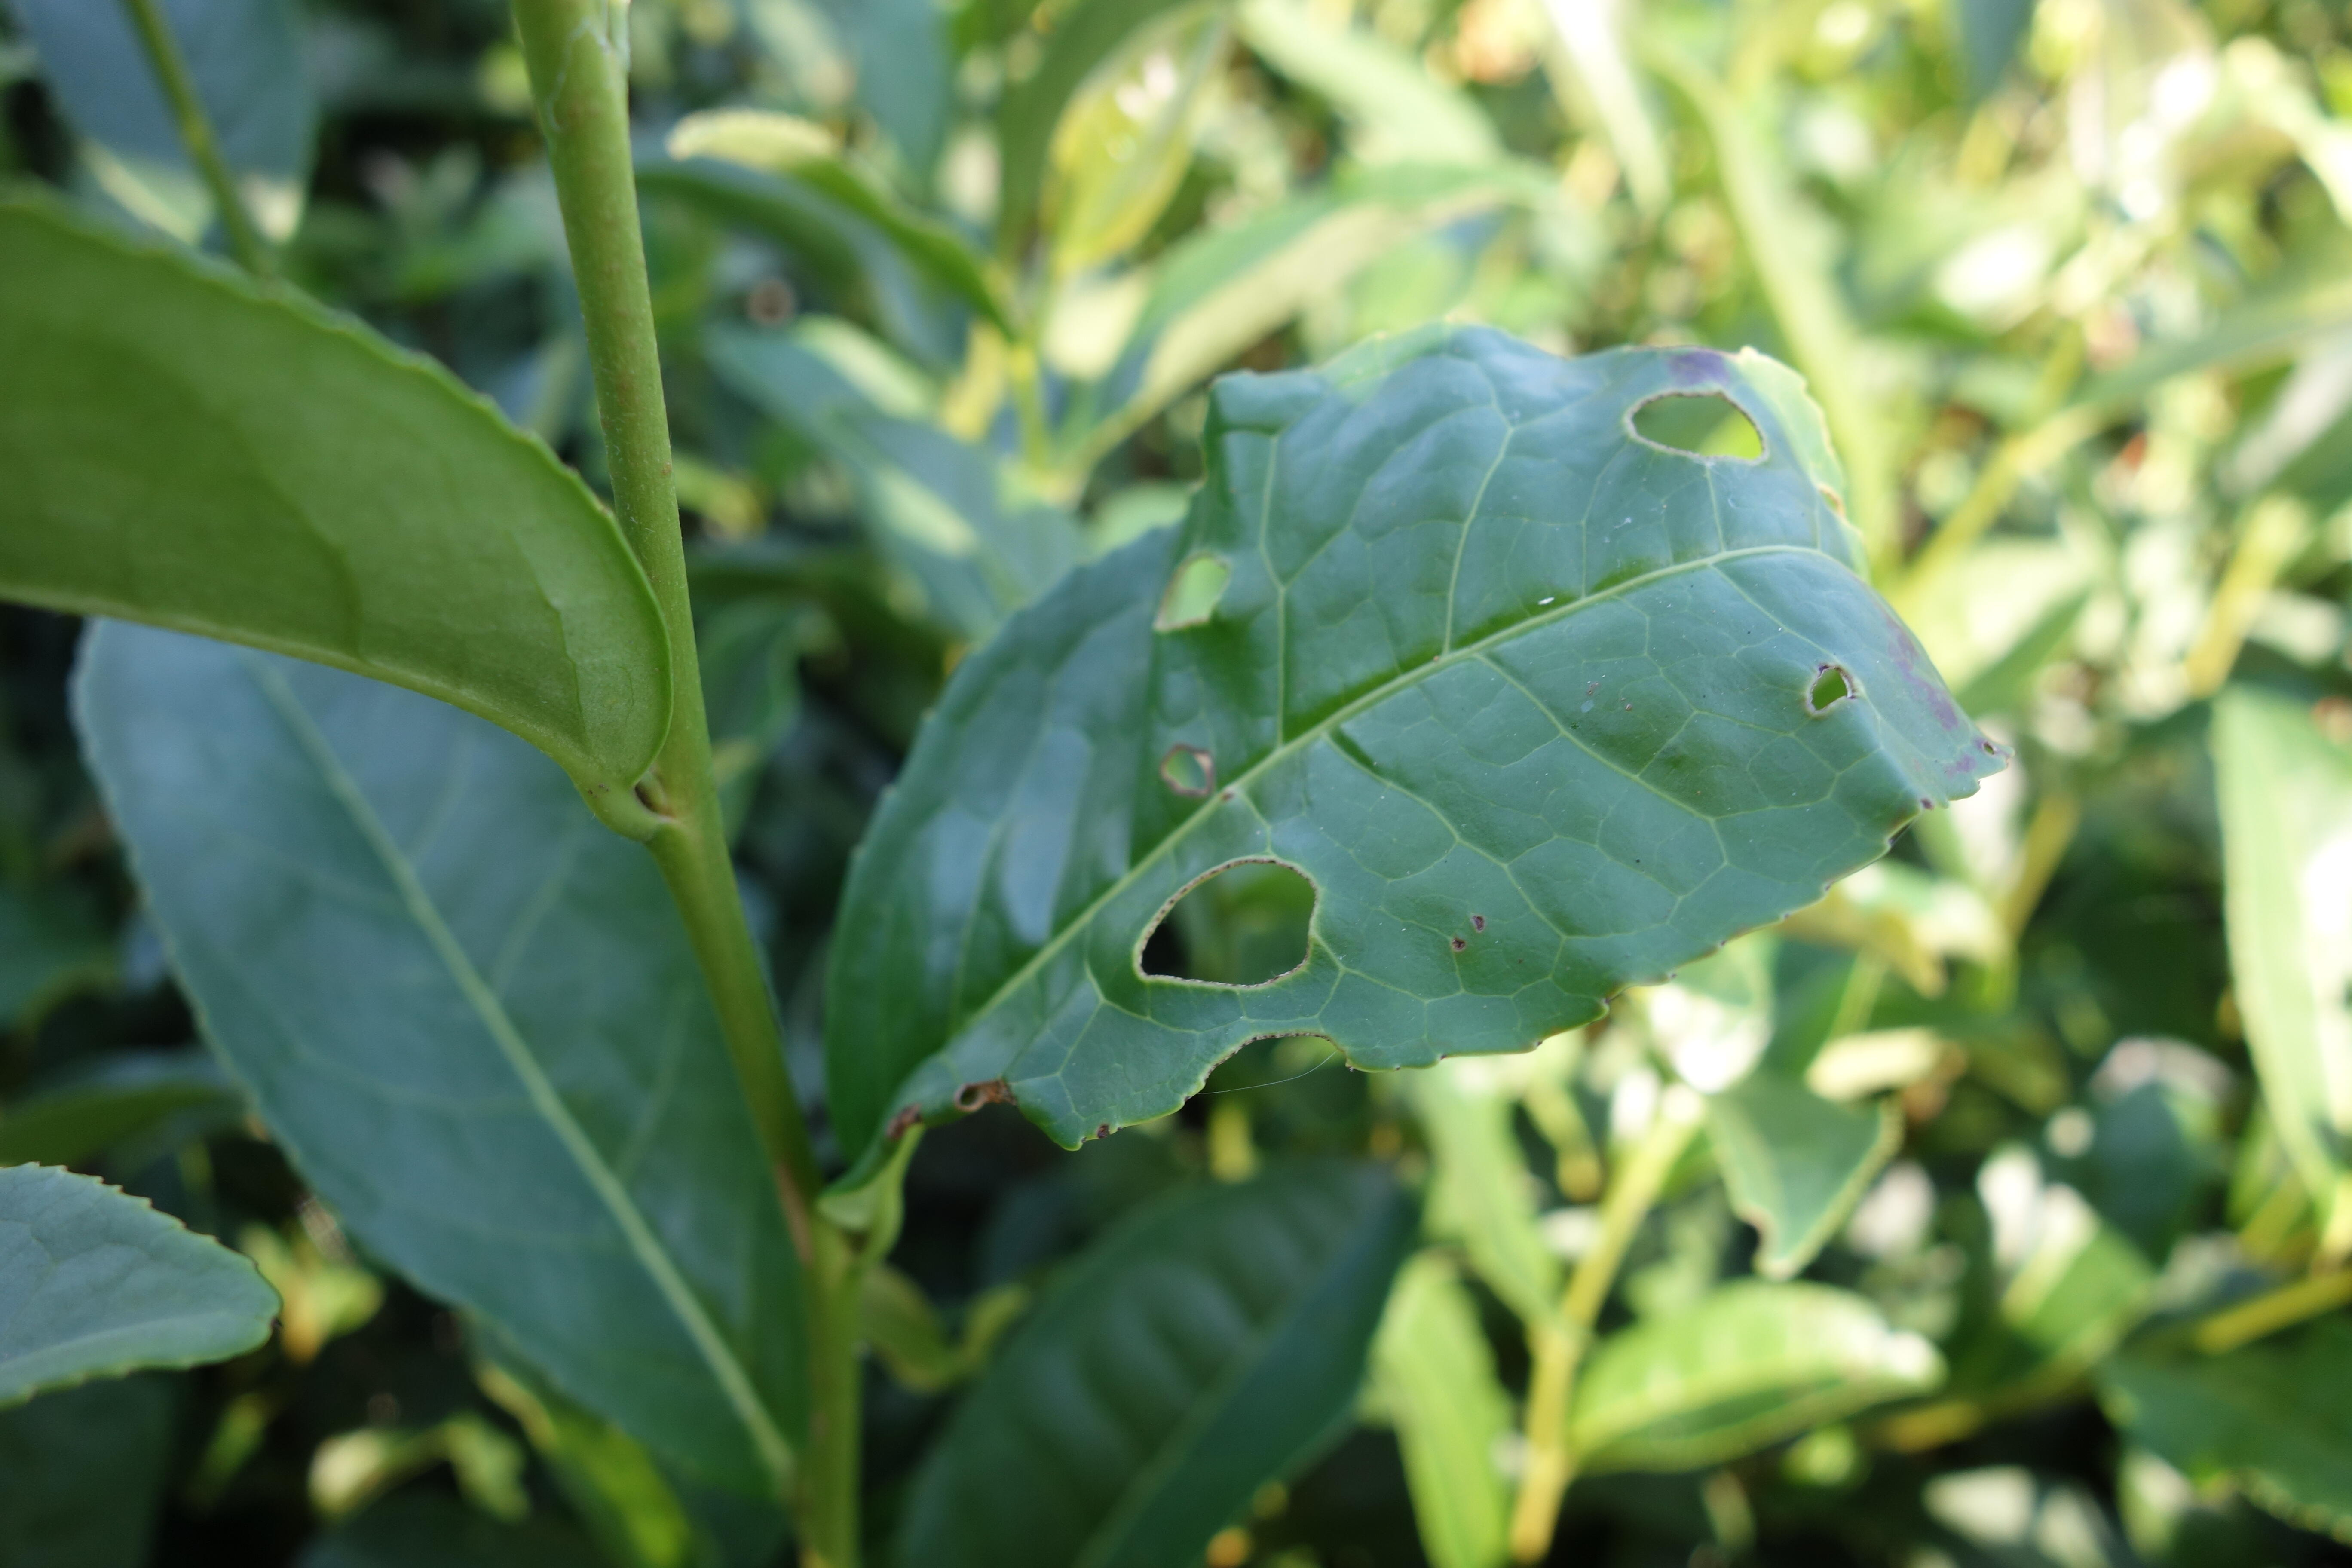chihuo_high: (819, 324, 2019, 1255)
